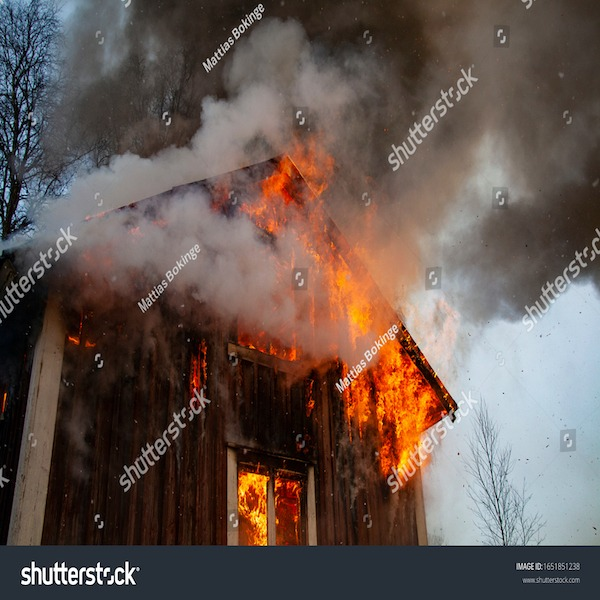fire: (300, 149, 376, 328), (369, 365, 416, 454), (241, 472, 266, 544)
